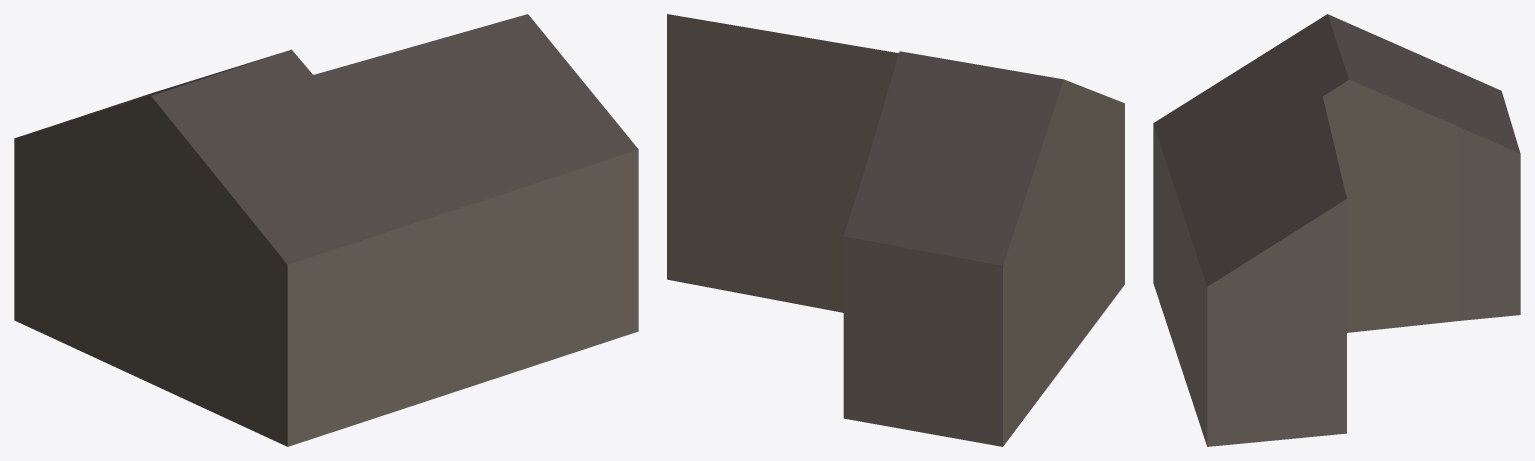
3 renders of one model, left to right at view 1: azimuth 30°, elevation 25°; view 2: azimuth 150°, elevation 25°; view 3: azimuth 270°, elevation 25°, orthographic. The views are drawn at different scales.
Parts seen in each view (by area): view 1: HP-w1512911280; view 2: HP-w1512911280; view 3: HP-w1512911280.
Part boxes in pixels (<box>): HP-w1512911280: <box>14,14,638,446</box>; HP-w1512911280: <box>667,14,1124,446</box>; HP-w1512911280: <box>1153,14,1520,446</box>.
Size of the model in its own units: 15.76 by 9.49 by 12.47.
